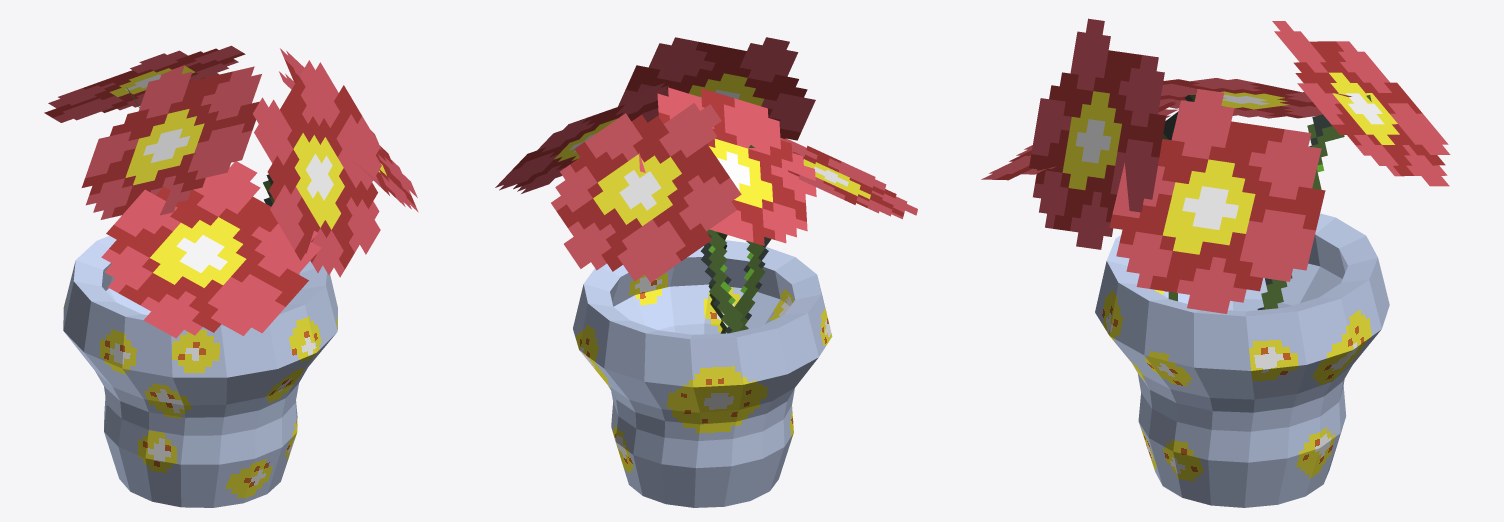
The model's file is vase.glb.
The picture shows the model from 3 angles, left to right: view 1: azimuth 30°, elevation 25°; view 2: azimuth 150°, elevation 25°; view 3: azimuth 270°, elevation 25°; orthographic projection. The views are drawn at different scales.
Parts seen in each view (by area): view 1: Plane.010; view 2: Plane.010; view 3: Plane.010.
Boxes of the visible parts, x1,y1,x2,y2 form: Plane.010: [44, 45, 418, 507]; Plane.010: [495, 37, 917, 507]; Plane.010: [981, 18, 1450, 507].
Size of the model in its own units: 4.44 by 4.79 by 4.84.
4 materials, 3 textured.
